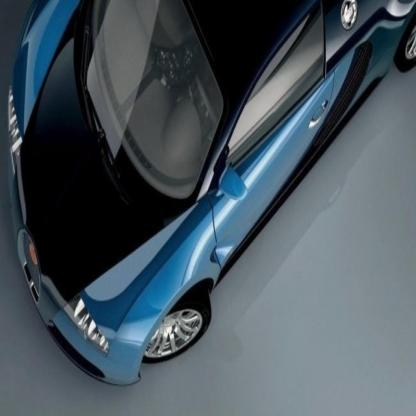Car: (6, 1, 416, 386)
